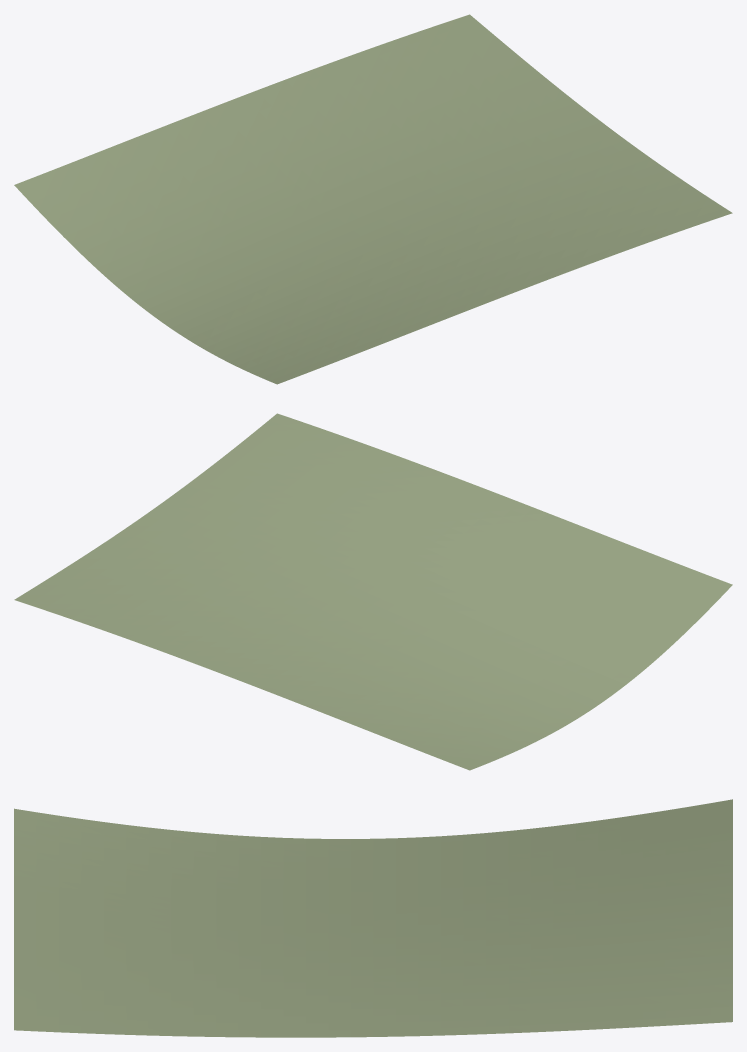
The model's file is expanse-27-10.glb.
3 renders of one model, top to bottom at view 1: azimuth 30°, elevation 25°; view 2: azimuth 150°, elevation 25°; view 3: azimuth 270°, elevation 25°, orthographic. The views are drawn at different scales.
Parts seen in each view (by area): view 1: expanse-27-10; view 2: expanse-27-10; view 3: expanse-27-10.
Part boxes in pixels (bbox=[...]): expanse-27-10: bbox=[14, 14, 732, 384]; expanse-27-10: bbox=[14, 413, 732, 770]; expanse-27-10: bbox=[14, 799, 732, 1037].
Bounding box in the file's own units: 256 × 47.45 × 256.
